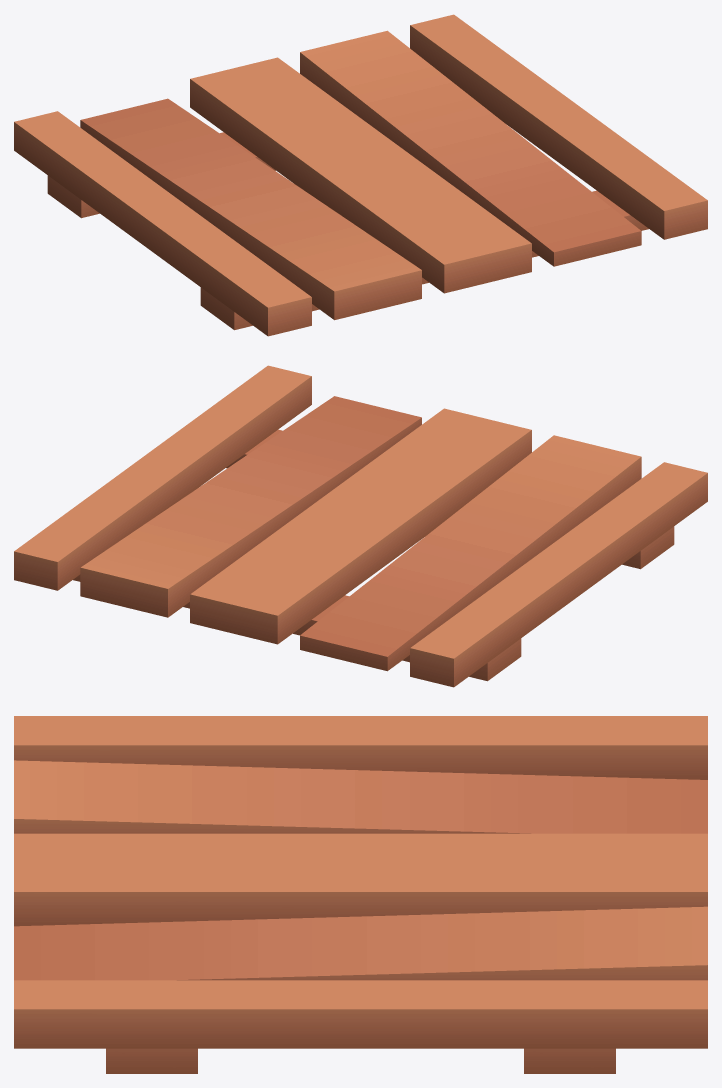
File: floor-old.glb
3 views of the same model, one above another, from view 1: azimuth 30°, elevation 25°; view 2: azimuth 150°, elevation 25°; view 3: azimuth 270°, elevation 25° (orthographic). The views are drawn at different scales.
Parts seen in each view (by area): view 1: floor-old; view 2: floor-old; view 3: floor-old.
Part boxes in pixels (<box>): floor-old: <box>14,14,707,336</box>; floor-old: <box>14,365,707,687</box>; floor-old: <box>14,716,707,1073</box>.
Bounding box in the file's own units: 0.5 × 0.0512 × 0.5.
1 material, 1 textured.
